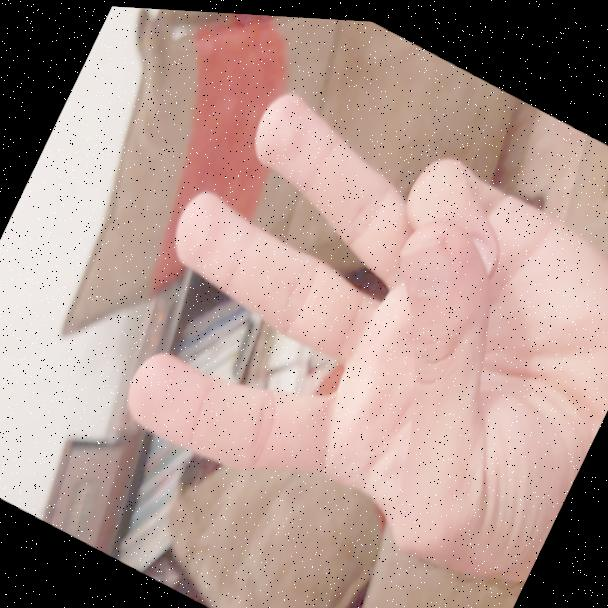five: (83, 21, 608, 608)
